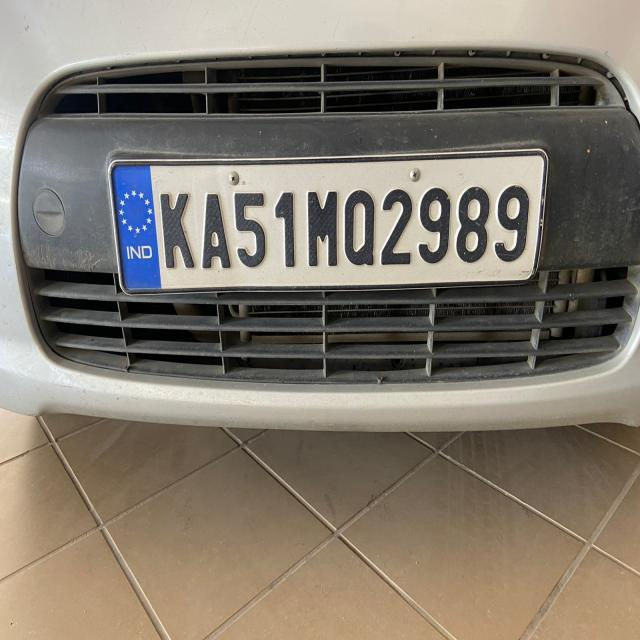1: (270, 191, 302, 268)
5: (230, 185, 270, 274)
8: (453, 175, 494, 268)
9: (497, 180, 538, 276), (415, 187, 457, 266)
A: (200, 185, 233, 282)
K: (152, 182, 198, 278)
M: (302, 180, 343, 273)
Q: (341, 186, 378, 270)
